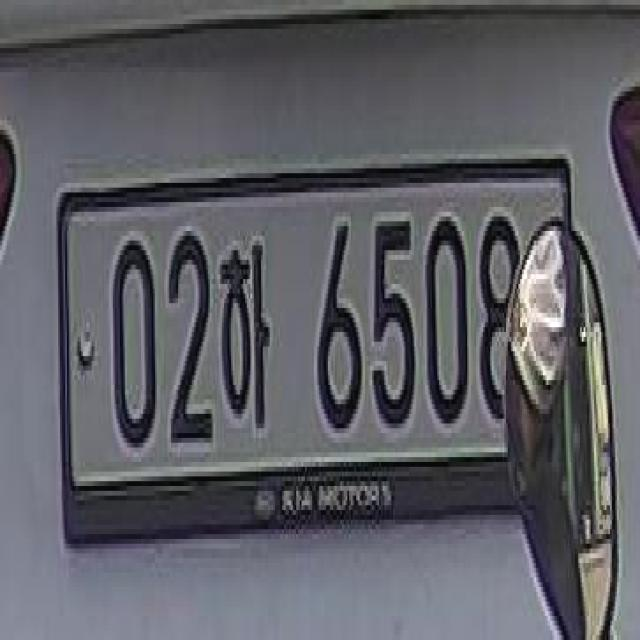illegal_plate: (55, 160, 547, 538)
